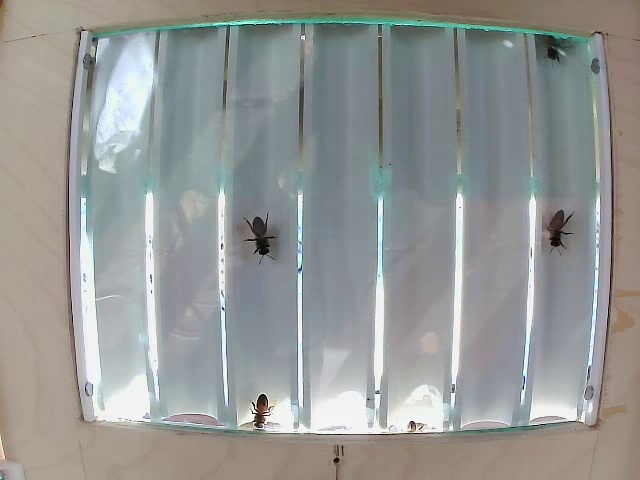bee: (243, 387, 284, 433), (243, 219, 286, 262), (538, 36, 570, 80), (551, 214, 578, 253)
